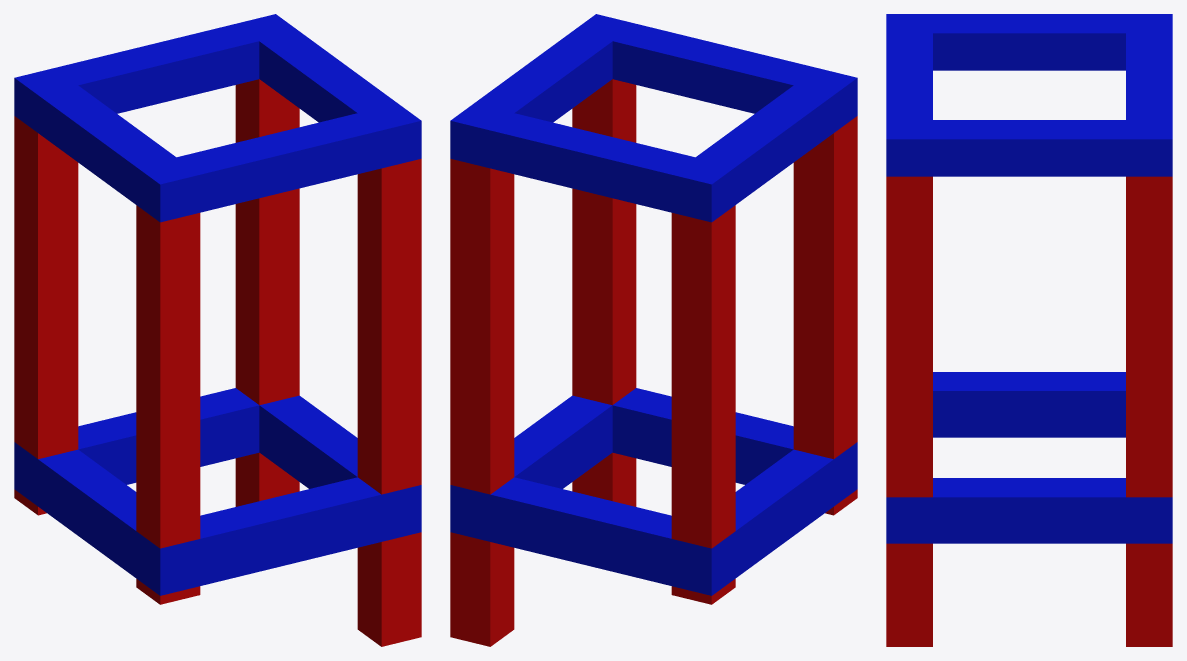
File: SupportAscenseur.FBX
The picture shows the model from 3 angles, left to right: view 1: azimuth 30°, elevation 25°; view 2: azimuth 150°, elevation 25°; view 3: azimuth 270°, elevation 25°; orthographic projection.
Visible parts, largest first — view 1: SupportAscenseur; view 2: SupportAscenseur; view 3: SupportAscenseur.
Boxes of the visible parts, bbox=[...] form: SupportAscenseur: bbox=[14, 14, 421, 646]; SupportAscenseur: bbox=[450, 14, 857, 646]; SupportAscenseur: bbox=[886, 14, 1172, 646].
Size of the model in its own units: 146 by 275 by 141.
